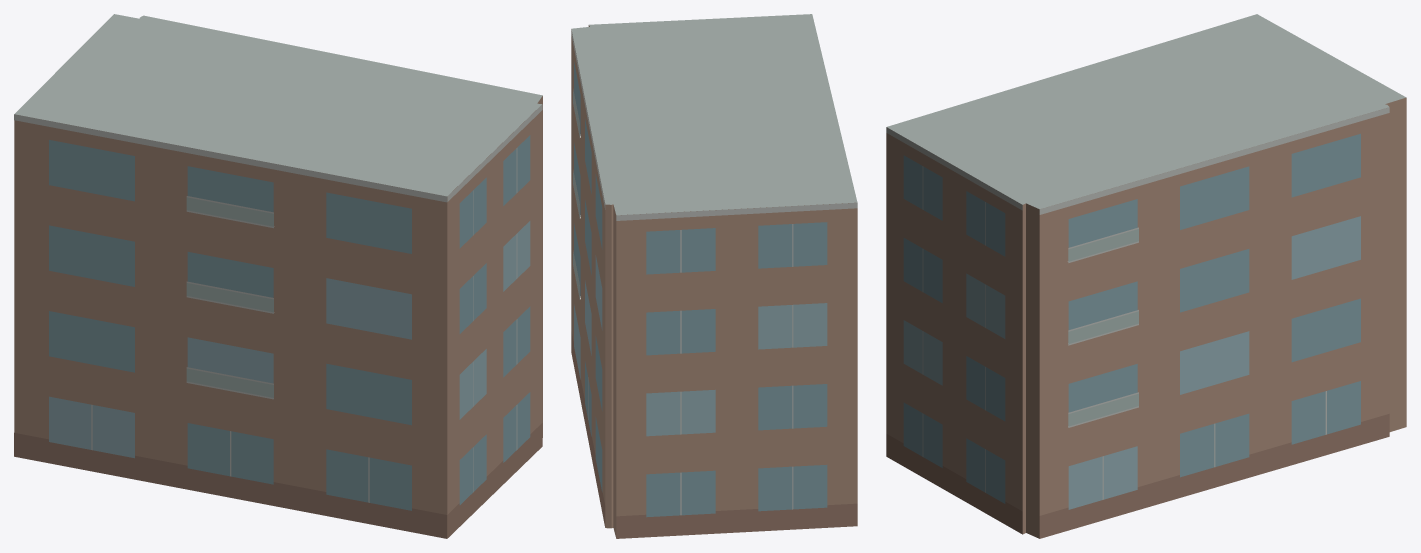
File: survey-upis-32815647.glb
The picture shows the model from 3 angles, left to right: view 1: azimuth 30°, elevation 25°; view 2: azimuth 150°, elevation 25°; view 3: azimuth 270°, elevation 25°; orthographic projection. The views are drawn at different scales.
Parts seen in each view (by area): view 1: survey-upis-32815647.tmp; view 2: survey-upis-32815647.tmp; view 3: survey-upis-32815647.tmp.
Boxes of the visible parts, bbox=[...] form: survey-upis-32815647.tmp: bbox=[14, 14, 542, 538]; survey-upis-32815647.tmp: bbox=[571, 14, 857, 538]; survey-upis-32815647.tmp: bbox=[886, 14, 1406, 538].
Bounding box in the file's own units: 17.64 × 13.88 × 19.85.
